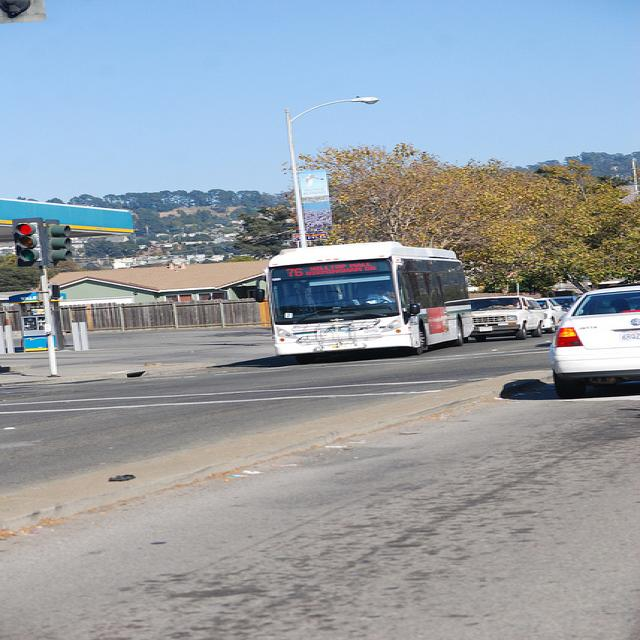Vehicle: (256, 242, 477, 364), (547, 284, 640, 402), (470, 296, 546, 341), (535, 297, 569, 333), (551, 296, 578, 309)
